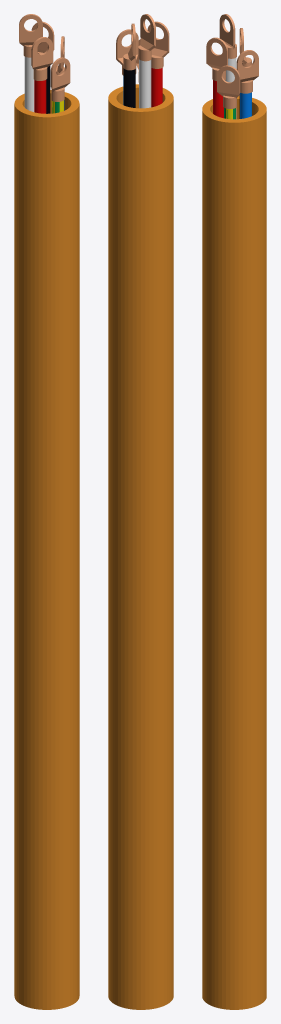
The model's file is conduit-wiring-final.glb.
3 renders of one model, left to right at view 1: azimuth 30°, elevation 25°; view 2: azimuth 150°, elevation 25°; view 3: azimuth 330°, elevation 25°, orthographic.
Parts seen in each view (by area): view 1: wiring, lug.001, lug, lug.002, darkgrey-L2, red-L1, lug.004, blue-N; view 2: wiring, lug.002, darkgrey-L2, lug.001, blue-N, red-L1, lug.003, lug.004; view 3: wiring, lug, lug.003, lug.001, lug.002, lightgrey-L3, red-L1, lug.004, darkgrey-L2.
Part boxes in pixels (bbox=[...]): wiring: bbox=[14, 90, 79, 1009]; lug.001: bbox=[31, 37, 53, 80]; lug: bbox=[50, 57, 70, 101]; lug.002: bbox=[19, 14, 42, 57]; darkgrey-L2: bbox=[24, 57, 34, 111]; red-L1: bbox=[34, 80, 46, 113]; lug.004: bbox=[31, 21, 54, 54]; blue-N: bbox=[46, 66, 50, 113]; wiring: bbox=[108, 84, 173, 1009]; lug.002: bbox=[138, 14, 155, 61]; darkgrey-L2: bbox=[139, 59, 151, 108]; lug.001: bbox=[147, 21, 169, 68]; blue-N: bbox=[123, 68, 135, 107]; red-L1: bbox=[151, 68, 162, 107]; lug.003: bbox=[116, 29, 138, 75]; lug.004: bbox=[123, 23, 135, 70]; wiring: bbox=[202, 96, 266, 1009]; lug: bbox=[217, 65, 240, 108]; lug.003: bbox=[236, 50, 258, 93]; lug.001: bbox=[206, 37, 227, 80]; lug.002: bbox=[219, 14, 236, 58]; lightgrey-L3: bbox=[240, 92, 251, 118]; red-L1: bbox=[213, 80, 223, 118]; lug.004: bbox=[239, 28, 251, 66]; darkgrey-L2: bbox=[225, 58, 236, 118].
Bounding box in the file's own units: 0.0464 × 0.7727 × 0.0464.
7 materials, 1 textured.
